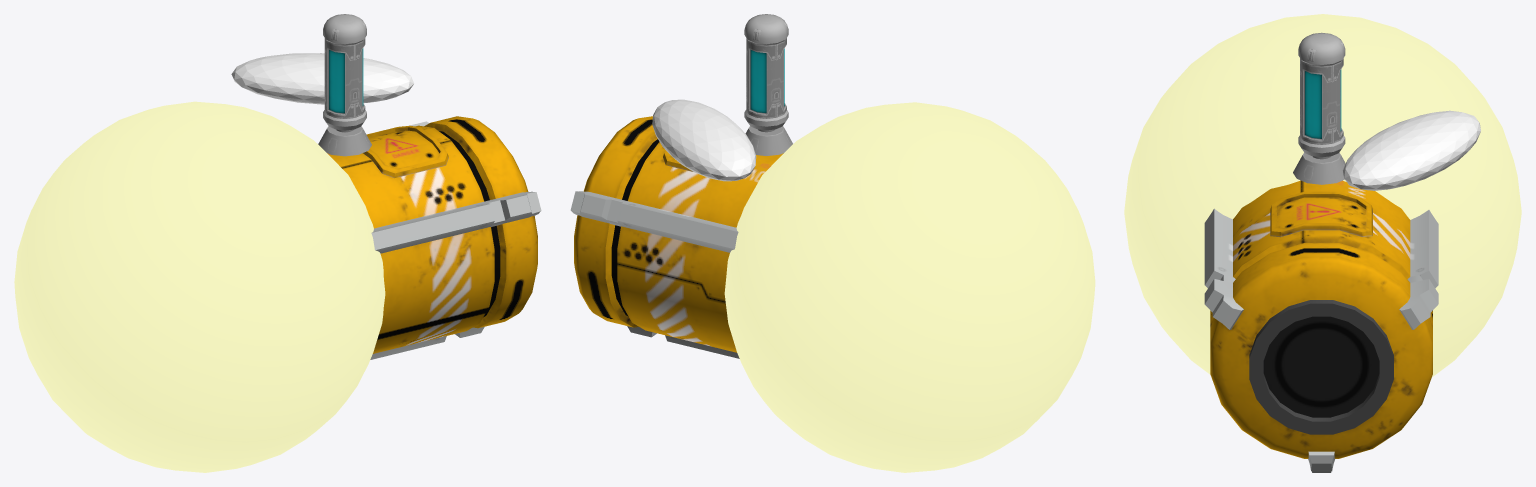
The model's file is Power.fbx.
The picture shows the model from 3 angles, left to right: view 1: azimuth 30°, elevation 25°; view 2: azimuth 150°, elevation 25°; view 3: azimuth 270°, elevation 25°; orthographic projection. The views are drawn at different scales.
Visible parts, largest first — view 1: EngineSphere, SingleMesh polySurface9, SingleMesh pCylinder6, SodaPointLight; view 2: EngineSphere, SingleMesh polySurface9, SodaPointLight, SingleMesh pCylinder6; view 3: EngineSphere, SingleMesh polySurface9, SodaPointLight, SingleMesh pCylinder6.
Boxes of the visible parts, <box> form: EngineSphere: <box>14,101,385,472</box>; SingleMesh polySurface9: <box>327,116,541,359</box>; SingleMesh pCylinder6: <box>318,14,371,156</box>; SodaPointLight: <box>231,53,414,104</box>; EngineSphere: <box>724,102,1095,472</box>; SingleMesh polySurface9: <box>570,116,783,358</box>; SodaPointLight: <box>652,99,756,181</box>; SingleMesh pCylinder6: <box>744,14,792,155</box>; EngineSphere: <box>1124,14,1521,377</box>; SingleMesh polySurface9: <box>1204,180,1438,472</box>; SodaPointLight: <box>1343,110,1480,190</box>; SingleMesh pCylinder6: <box>1293,32,1345,184</box>.
Bounding box in the file's own units: 4.43 × 3.67 × 3.08.
